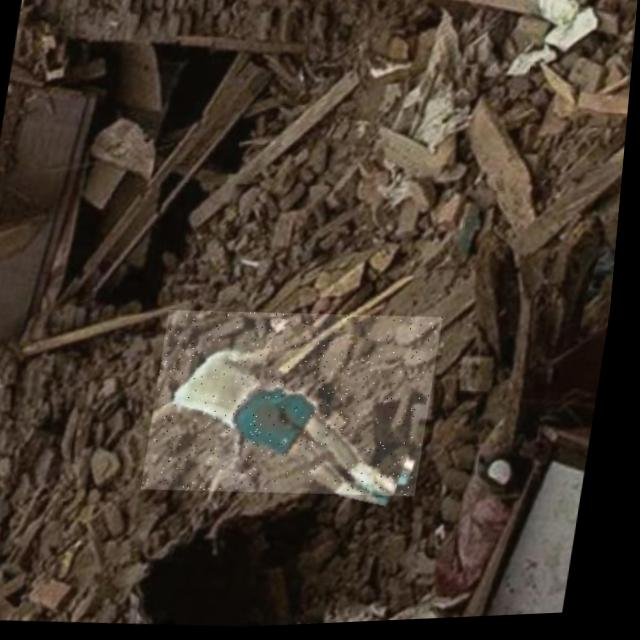Person in Rubble: (148, 301, 450, 509)
